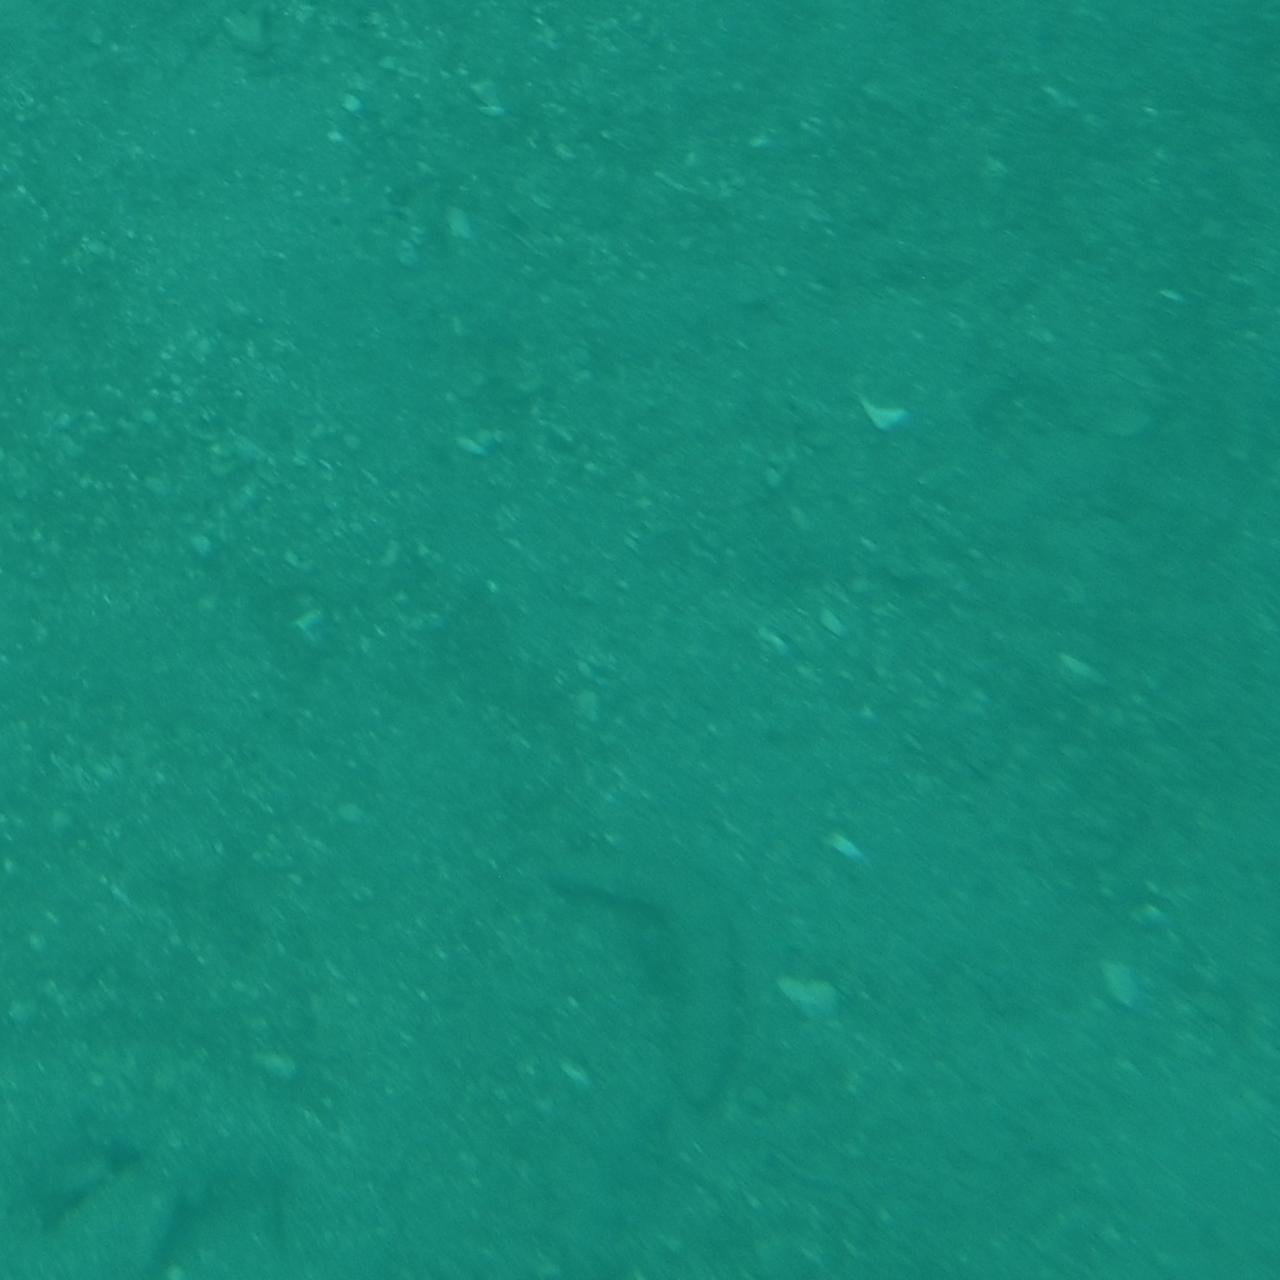Holothuria tubulosa: (534, 835, 746, 1121)
